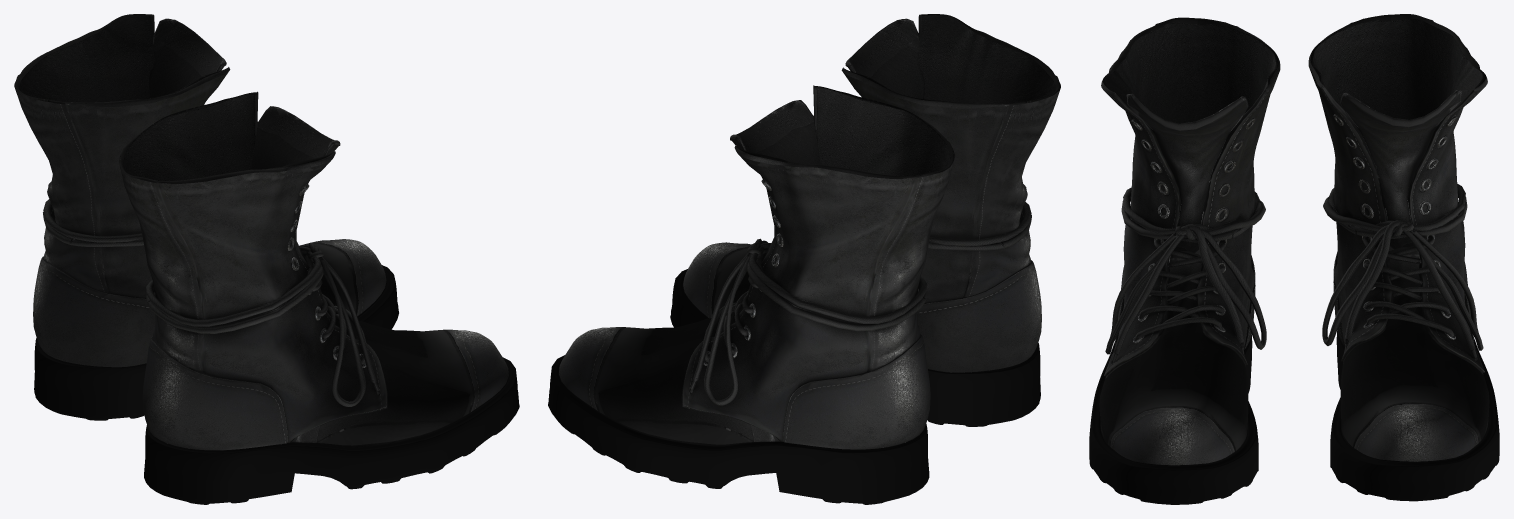
The model's file is steel-toed_boots_3d_model.fbx.
3 views of the same model, side by side, from view 1: azimuth 30°, elevation 25°; view 2: azimuth 150°, elevation 25°; view 3: azimuth 270°, elevation 25° (orthographic). The views are drawn at different scales.
Parts seen in each view (by area): view 1: obj10, obj8, obj2, obj12, obj7, obj5, obj4, obj6, obj9, obj1, obj3; view 2: obj4, obj2, obj8, obj6, obj1, obj11, obj10, obj12, obj3, obj7, obj9; view 3: obj1, obj7, obj11, obj5, obj8, obj2, obj3, obj9, obj6, obj12, obj4, obj10.
Part boxes in pixels (<box>): obj10: <box>120,160,387,442</box>; obj8: <box>123,93,335,450</box>; obj2: <box>19,15,224,367</box>; obj12: <box>144,357,519,504</box>; obj7: <box>119,92,508,445</box>; obj5: <box>65,19,228,298</box>; obj4: <box>15,16,154,292</box>; obj6: <box>34,265,398,420</box>; obj9: <box>146,184,380,406</box>; obj1: <box>14,14,386,316</box>; obj3: <box>43,199,143,246</box>; obj4: <box>681,154,953,441</box>; obj2: <box>735,87,950,449</box>; obj8: <box>848,15,1055,372</box>; obj6: <box>548,355,929,504</box>; obj1: <box>559,86,954,444</box>; obj11: <box>843,19,1008,303</box>; obj10: <box>918,16,1060,297</box>; obj12: <box>670,269,1040,426</box>; obj3: <box>689,179,927,405</box>; obj7: <box>683,14,1060,318</box>; obj9: <box>928,202,1031,250</box>; obj1: <box>1308,14,1489,461</box>; obj7: <box>1099,17,1280,465</box>; obj11: <box>1129,72,1279,366</box>; obj5: <box>1310,69,1459,363</box>; obj8: <box>1106,22,1275,349</box>; obj2: <box>1313,19,1482,346</box>; obj3: <box>1322,114,1483,360</box>; obj9: <box>1105,117,1266,364</box>; obj6: <box>1330,331,1499,501</box>; obj12: <box>1089,335,1258,504</box>; obj4: <box>1407,89,1484,374</box>; obj10: <box>1104,93,1181,378</box>.
Bounding box in the file's own units: 76.45 × 65.82 × 72.28.
5 materials, 4 textured.
